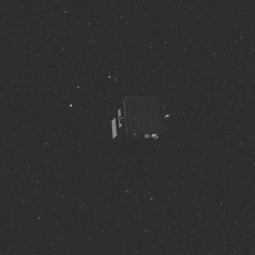proba_3_ocs: (98, 83, 178, 146)
